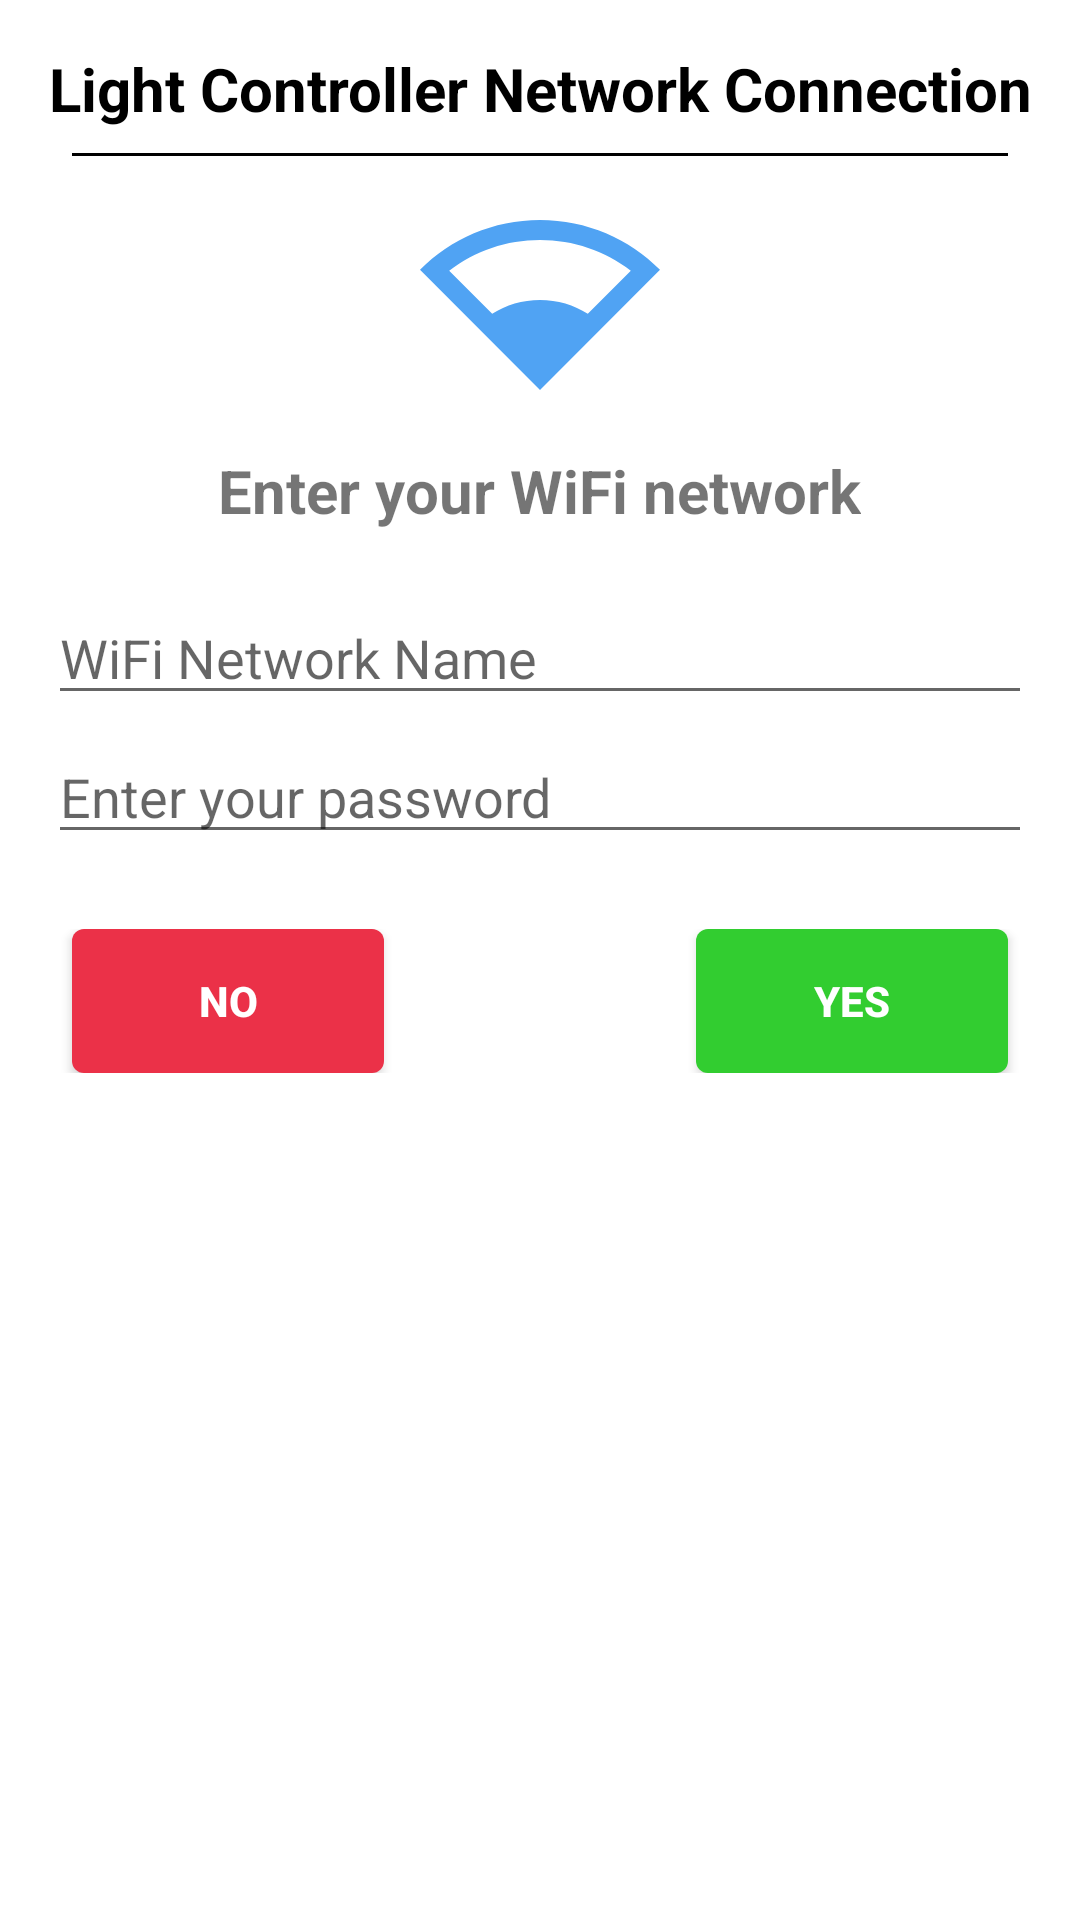

Point at icon controls on the screen. Image size 1080×1920, points as [x,y].
network wifi bar: [540,305]
